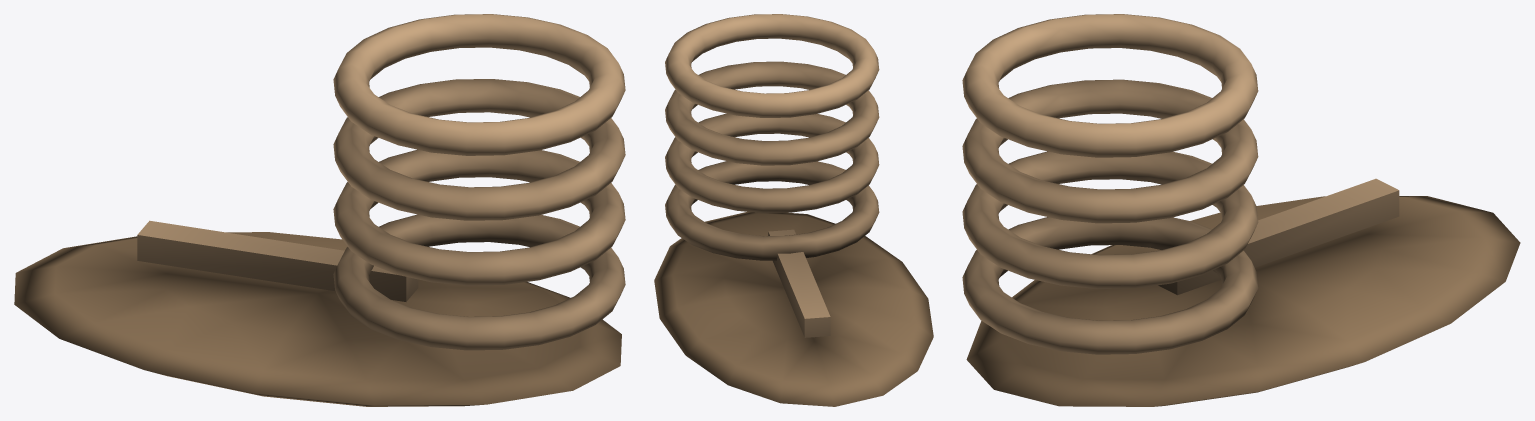
The model's file is gladiator_feet.fbx.
The picture shows the model from 3 angles, left to right: view 1: azimuth 30°, elevation 25°; view 2: azimuth 150°, elevation 25°; view 3: azimuth 270°, elevation 25°; orthographic projection. The views are drawn at different scales.
Parts seen in each view (by area): view 1: gladiator_feet; view 2: gladiator_feet; view 3: gladiator_feet.
Part boxes in pixels (x1,y1,x2,y2): gladiator_feet: (14,14,625,406); gladiator_feet: (654,14,933,406); gladiator_feet: (962,14,1520,406).
Size of the model in its own units: 0.7039 by 0.465 by 0.7705.
